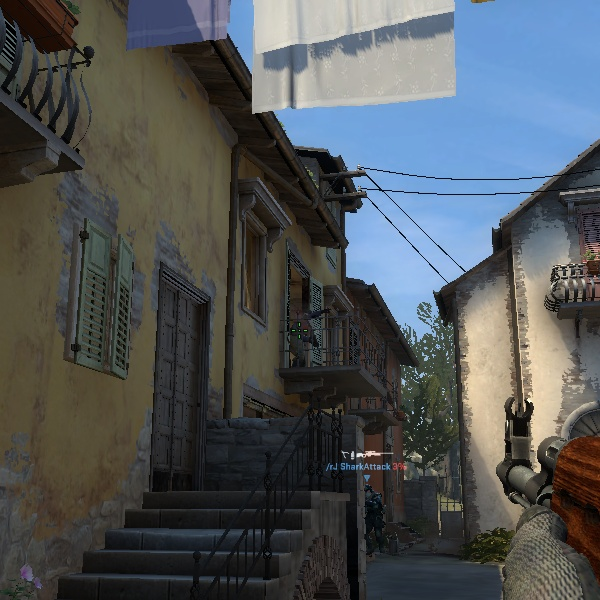t_head: (512, 382, 600, 557)
